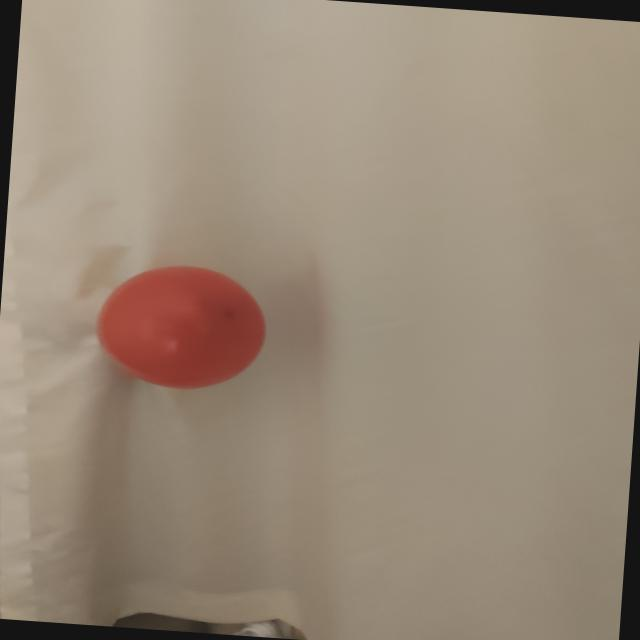balloon: (97, 266, 265, 389)
